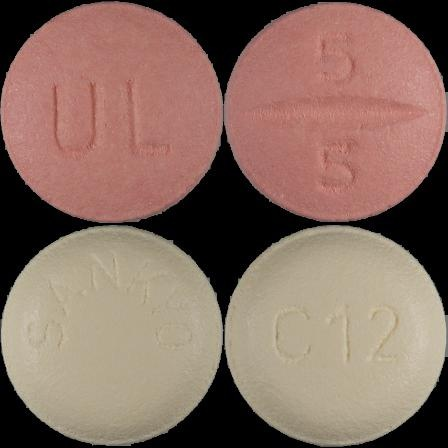68151-4504: (0, 0, 224, 224)
